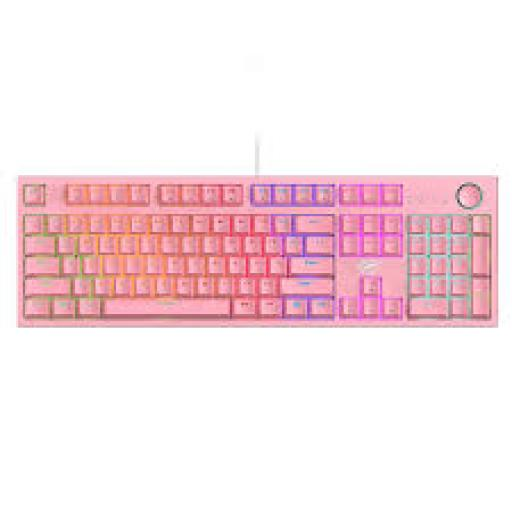keyboard: (18, 177, 496, 323)
